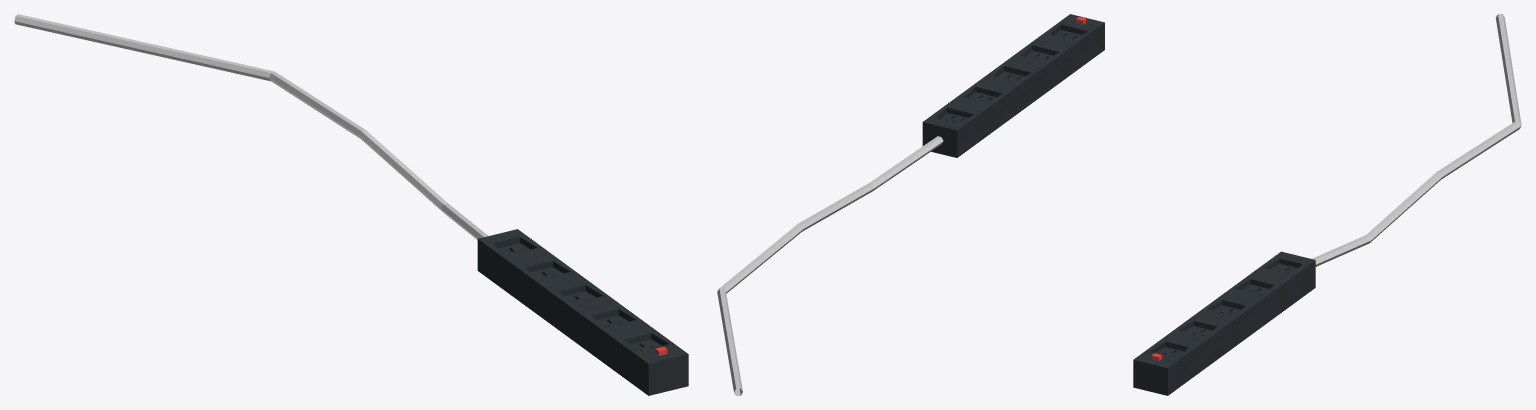
Rendered from Power_Socket_01.fbx.
The picture shows the model from 3 angles, left to right: view 1: azimuth 30°, elevation 25°; view 2: azimuth 150°, elevation 25°; view 3: azimuth 330°, elevation 25°; orthographic projection. The views are drawn at different scales.
Parts seen in each view (by area): view 1: Power_Socket; view 2: Power_Socket; view 3: Power_Socket.
Boxes of the visible parts, box(x1,y1,x2,y2) form: Power_Socket: box(14, 14, 688, 395); Power_Socket: box(717, 14, 1104, 395); Power_Socket: box(1133, 14, 1521, 395).
Size of the model in its own units: 0.3219 by 0.0767 by 2.
